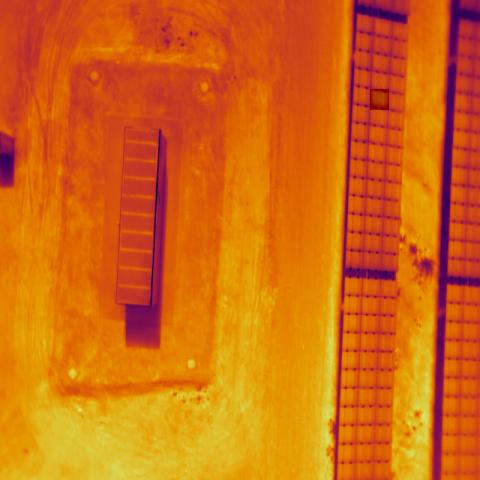fault: (370, 89, 389, 110)
